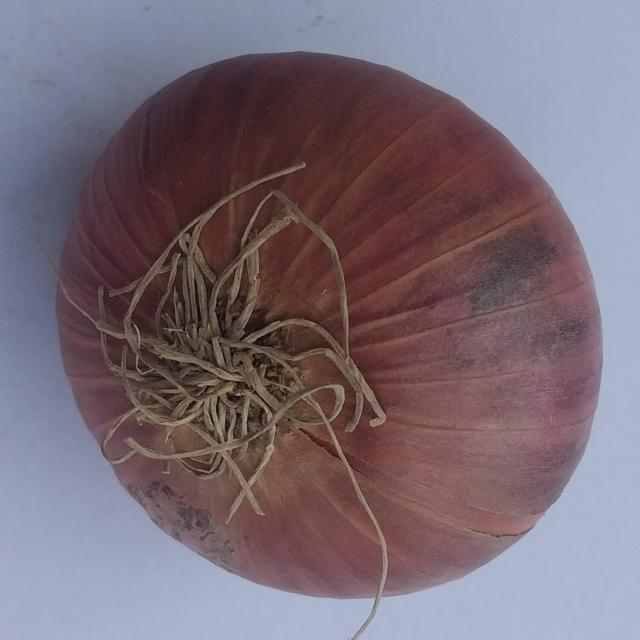onion: (55, 51, 604, 601)
